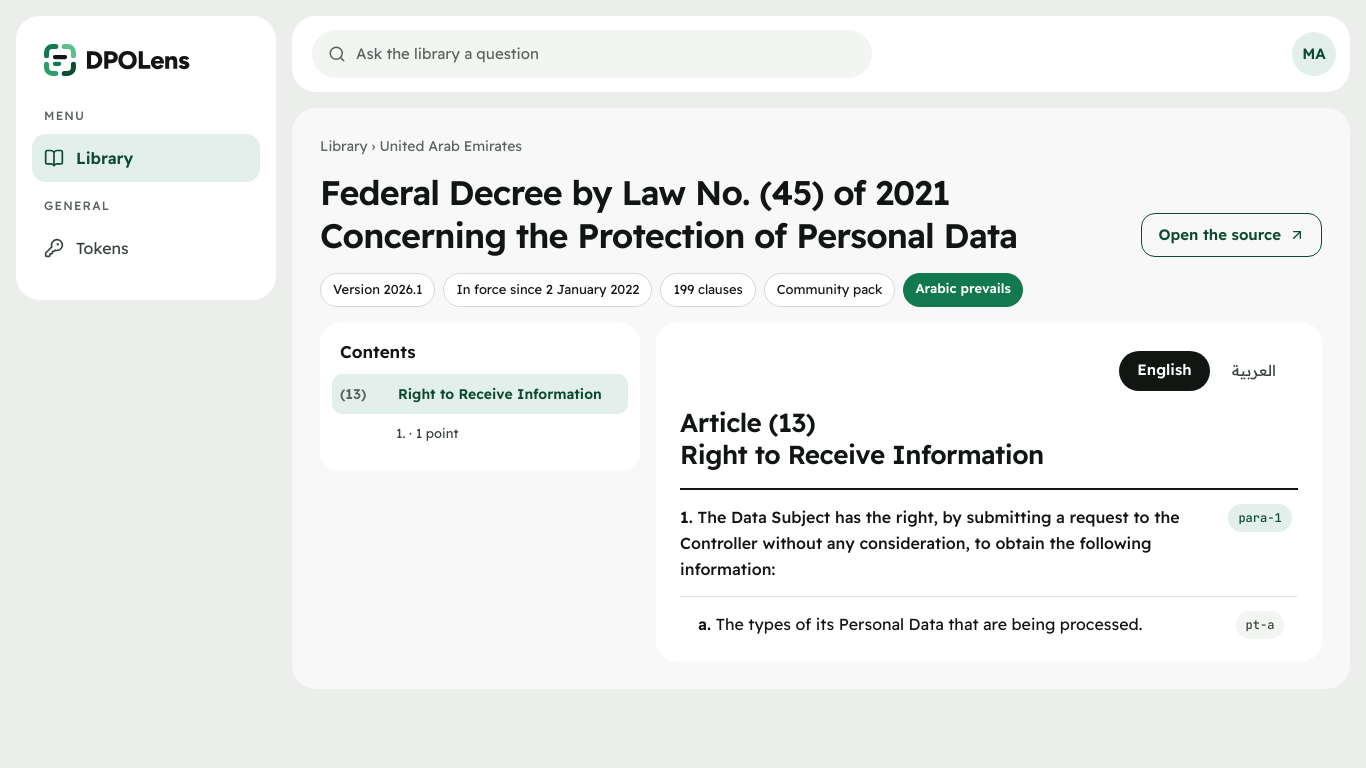
Test: a law in two languages › reads in the dashboard's language, with a switch to the other
This screenshot has width=1366, height=768.
Expected: the text "The Data Subject has the right" is shown, [680,506,1180,578]
Expected: the text "يحق لصاحب البيانات" is not shown
Click the button "العربية": (1254, 370) [1214,350,1294,390]
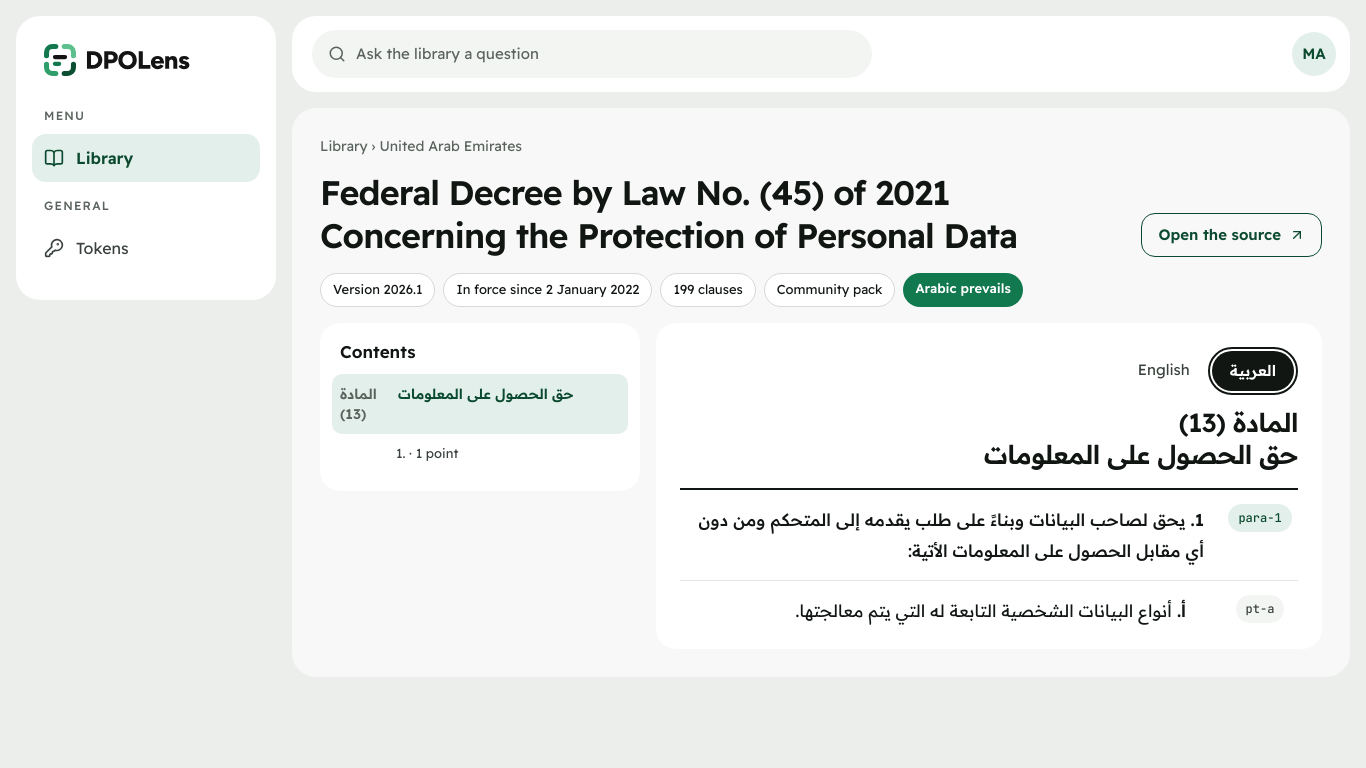
Result: the text "The Data Subject has the right" is gone
